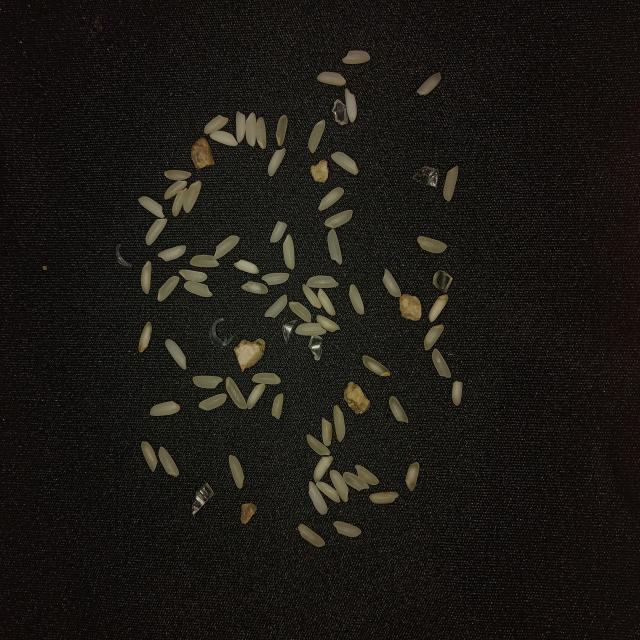Broken: (432, 270, 453, 294), (270, 220, 288, 243), (271, 393, 285, 421), (453, 381, 463, 406)
Full: (226, 377, 249, 409), (165, 338, 187, 371), (308, 481, 329, 515), (331, 151, 359, 175), (442, 165, 460, 202), (330, 470, 350, 503), (159, 446, 180, 477), (298, 524, 326, 547), (214, 235, 240, 259), (416, 72, 442, 96), (145, 218, 167, 246), (308, 120, 326, 154), (363, 355, 392, 376), (428, 293, 449, 322), (327, 228, 343, 266), (434, 348, 454, 378), (157, 276, 180, 302), (318, 187, 344, 210), (140, 440, 158, 473), (138, 196, 165, 218), (264, 294, 288, 318), (424, 324, 445, 351), (184, 180, 201, 213), (228, 455, 244, 490), (268, 147, 286, 178), (382, 268, 401, 297), (316, 481, 341, 503), (354, 464, 380, 485), (389, 396, 409, 423), (247, 382, 266, 410), (289, 301, 313, 323), (325, 210, 354, 228), (317, 287, 335, 316), (314, 456, 334, 482), (343, 471, 369, 491), (417, 236, 447, 253), (307, 434, 330, 456), (349, 284, 365, 315), (198, 393, 227, 410), (184, 281, 213, 298), (333, 405, 346, 442), (150, 401, 180, 417), (164, 180, 188, 200), (304, 284, 324, 308), (158, 245, 186, 262), (172, 188, 189, 216), (204, 115, 229, 134), (318, 315, 343, 334), (333, 521, 362, 537), (192, 376, 225, 390), (138, 321, 152, 354), (317, 71, 347, 86), (405, 462, 420, 492), (210, 131, 238, 147), (283, 234, 295, 270), (345, 88, 357, 123), (296, 322, 328, 335), (307, 275, 339, 288), (342, 50, 371, 64), (241, 281, 270, 295), (368, 491, 399, 504), (276, 114, 288, 147), (189, 254, 219, 267), (262, 273, 292, 286), (178, 270, 208, 283), (255, 118, 267, 150), (141, 261, 152, 295), (233, 260, 259, 274), (253, 372, 283, 384), (246, 111, 256, 146), (237, 110, 247, 142), (322, 417, 332, 446), (164, 170, 192, 180)
